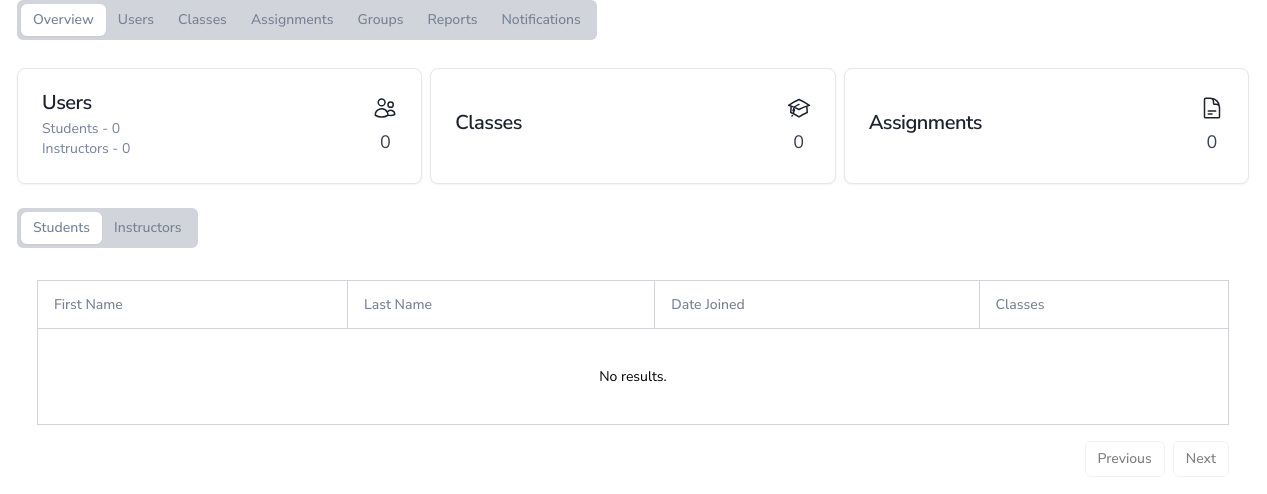
Scenario: AdminDashboard Component › renders Classes tab content when Classes tab is clicked
Step 1. Click the tab "Classes" → (202, 20), box [166,4,239,36]
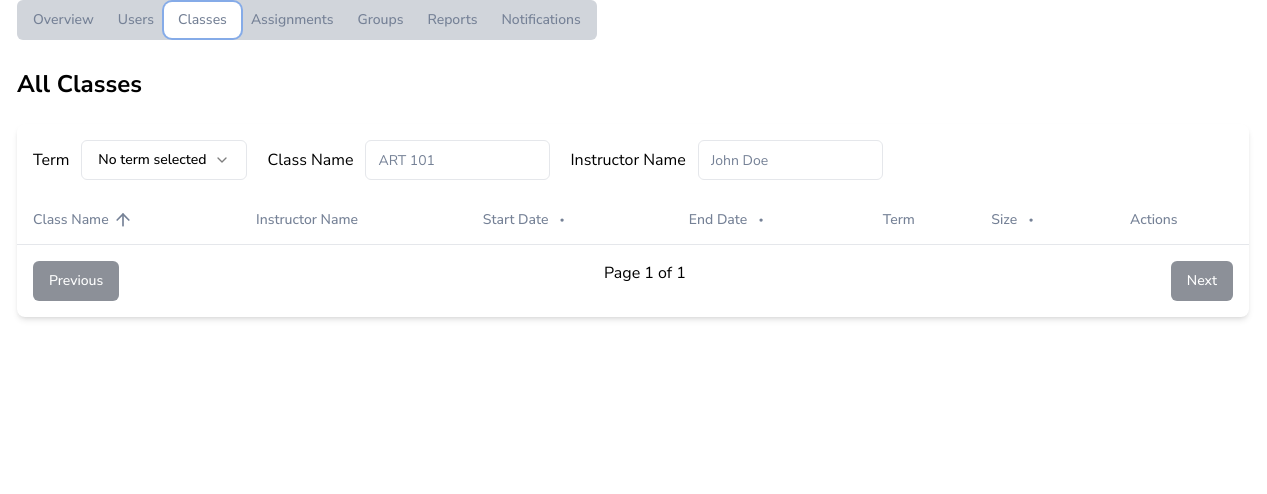
expect the heading "All Classes" is shown: met, box [17,68,142,100]
